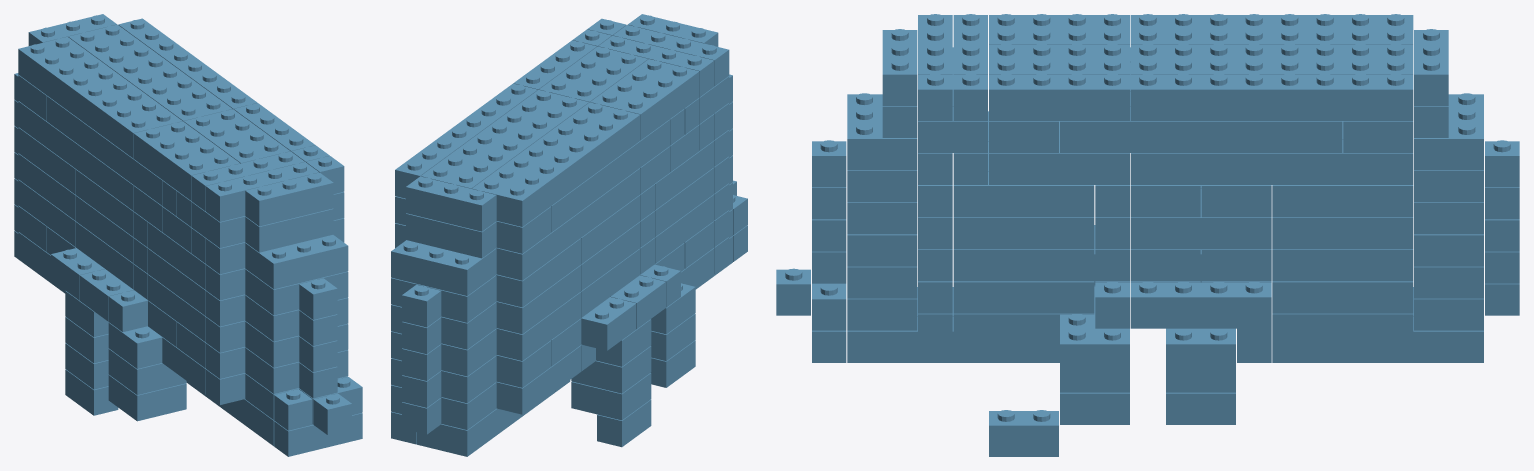
File: 258_vessel_L3.glb
3 views of the same model, side by side, from view 1: azimuth 30°, elevation 25°; view 2: azimuth 150°, elevation 25°; view 3: azimuth 270°, elevation 25° (orthographic). The views are drawn at different scales.
Bounding box in the file's own units: 7.98 × 11.13 × 20.98.
